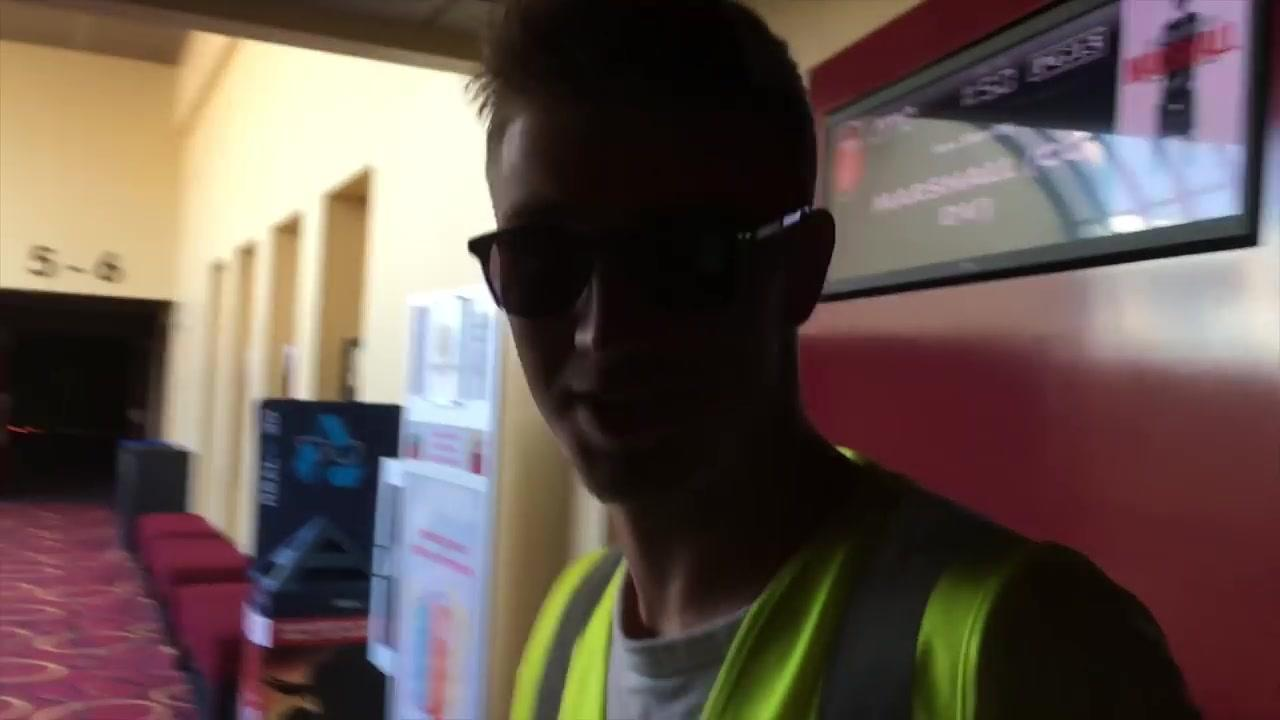vest: (506, 437, 1207, 719)
